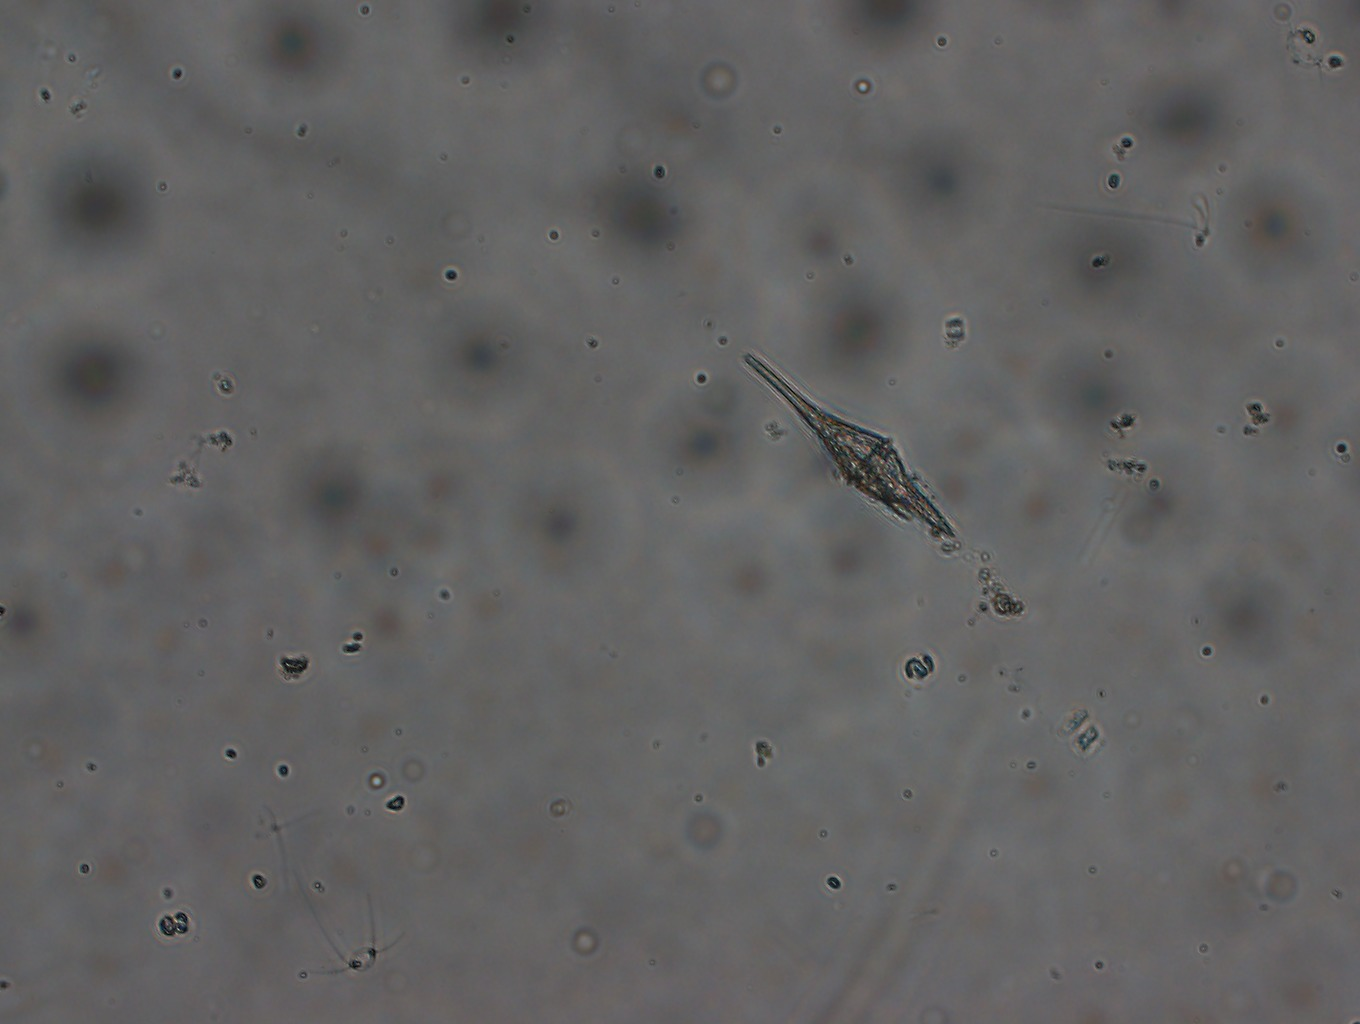ceratium furca: (738, 349, 960, 544)
